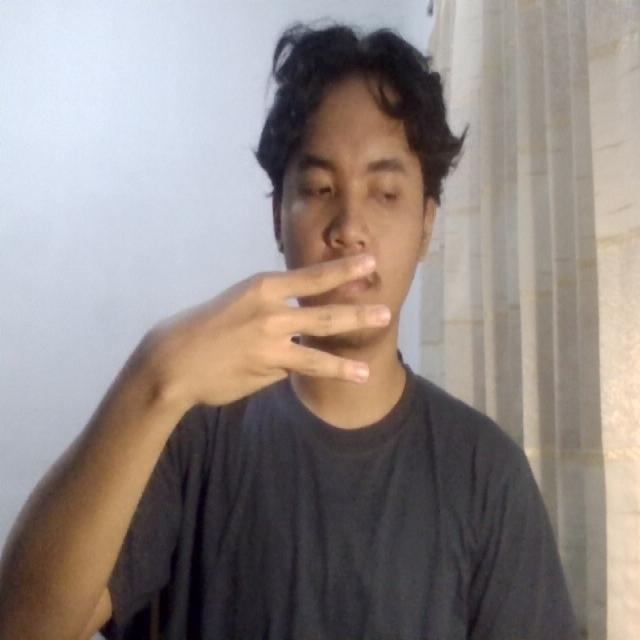E: (191, 231, 410, 429)
